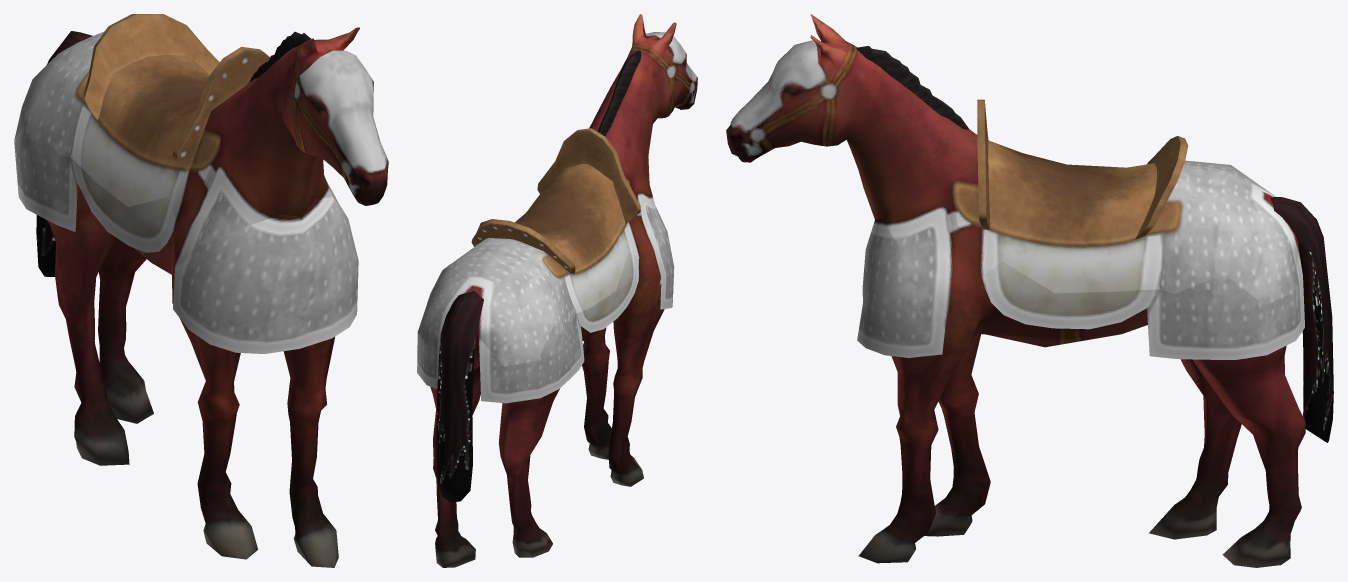
Rendered from body-mediumcavalry.glb.
The picture shows the model from 3 angles, left to right: view 1: azimuth 30°, elevation 25°; view 2: azimuth 150°, elevation 25°; view 3: azimuth 270°, elevation 25°; orthographic projection. The views are drawn at different scales.
Bounding box in the file's own units: 0.8361 × 2.5 × 2.65.
1 material, 1 textured.
